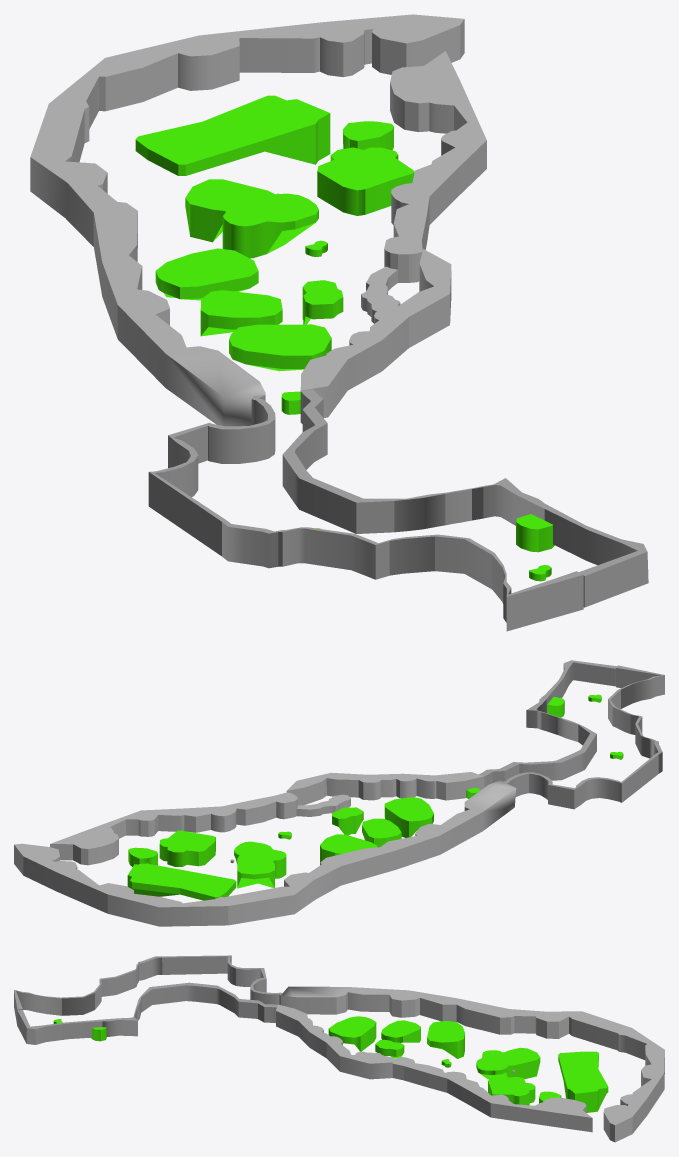
The model's file is colliders.fbx.
3 views of the same model, one above another, from view 1: azimuth 30°, elevation 25°; view 2: azimuth 150°, elevation 25°; view 3: azimuth 270°, elevation 25° (orthographic). The views are drawn at different scales.
Visible parts, largest first — view 1: Collider_01, Collider_14, Collider_13, Collider_02, Collider_04, Collider_12, Collider_05, Collider_03, Collider_08, Collider_06, Collider_07, Collider_09 (+3 smaller); view 2: Collider_01, Collider_02, Collider_14, Collider_13, Collider_12, Collider_04, Collider_05, Collider_03, Collider_08, Collider_06, Collider_07, Collider_11 (+2 smaller); view 3: Collider_01, Collider_14, Collider_02, Collider_13, Collider_12, Collider_04, Collider_05, Collider_08, Collider_06, Collider_03, Collider_07, Collider_09.
Part boxes in pixels (x1,y1,x2,y2): Collider_01: [30, 14, 464, 426]; Collider_14: [148, 395, 583, 631]; Collider_13: [282, 389, 648, 607]; Collider_02: [384, 51, 486, 282]; Collider_04: [135, 95, 330, 175]; Collider_12: [300, 249, 451, 417]; Collider_05: [185, 179, 318, 258]; Collider_03: [317, 147, 414, 215]; Collider_08: [229, 324, 331, 371]; Collider_06: [155, 248, 258, 300]; Collider_07: [200, 290, 282, 336]; Collider_09: [302, 280, 343, 324]; Collider_01: [14, 780, 516, 926]; Collider_02: [50, 792, 297, 865]; Collider_14: [503, 665, 664, 809]; Collider_13: [479, 660, 616, 787]; Collider_12: [286, 772, 484, 805]; Collider_04: [127, 864, 236, 900]; Collider_05: [234, 841, 286, 888]; Collider_03: [159, 830, 215, 866]; Collider_08: [384, 797, 433, 837]; Collider_06: [320, 834, 377, 864]; Collider_07: [362, 818, 401, 847]; Collider_11: [296, 794, 350, 816]; Collider_01: [281, 986, 664, 1142]; Collider_14: [14, 955, 282, 1025]; Collider_02: [392, 1057, 592, 1132]; Collider_13: [17, 982, 277, 1044]; Collider_12: [276, 1004, 392, 1079]; Collider_04: [558, 1051, 608, 1112]; Collider_05: [476, 1047, 540, 1079]; Collider_08: [328, 1016, 376, 1051]; Collider_06: [427, 1021, 464, 1058]; Collider_03: [488, 1077, 535, 1105]; Collider_07: [381, 1020, 420, 1042]; Collider_09: [375, 1039, 404, 1058].
Size of the model in its own units: 171 by 14.76 by 275.
